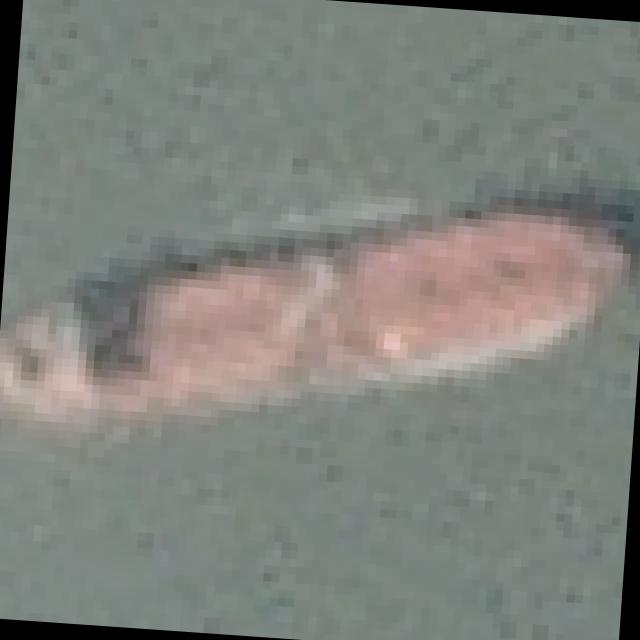ship: (0, 122, 640, 494)
